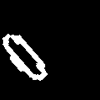chain: (3, 34, 46, 80)
